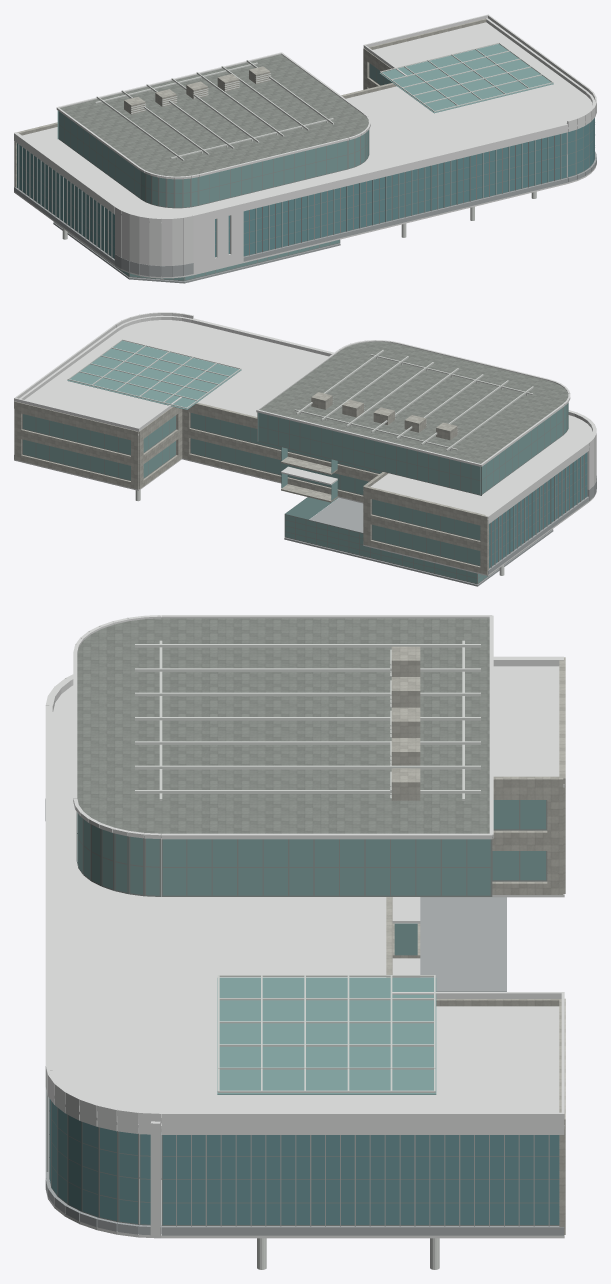
3 renders of one model, top to bottom at view 1: azimuth 30°, elevation 25°; view 2: azimuth 150°, elevation 25°; view 3: azimuth 270°, elevation 25°, orthographic. The views are drawn at different scales.
Visible parts, largest first — view 1: libraryNew__lower-white, libraryNew__roof, libraryNew__glass-water, libraryNew__glass-light, libraryNew__curtain-white, libraryNew__frame, libraryNew__vertical-metal, libraryNew__roof-louvers, libraryNew__base-gray, libraryNew__roof-white, libraryNew__rear-wall, libraryNew__mechanical; view 2: libraryNew__glass-light, libraryNew__roof, libraryNew__lower-white, libraryNew__rear-wall, libraryNew__frame, libraryNew__roof-louvers, libraryNew__roof-white, libraryNew__glass-water, libraryNew__curtain-white, libraryNew__base-gray, libraryNew__vertical-metal, libraryNew__mechanical; view 3: libraryNew__lower-white, libraryNew__roof, libraryNew__glass-light, libraryNew__glass-water, libraryNew__roof-louvers, libraryNew__curtain-white, libraryNew__base-gray, libraryNew__roof-white, libraryNew__rear-wall, libraryNew__frame, libraryNew__mechanical, libraryNew__vertical-metal.
Part boxes in pixels (x1,y1,x2,y2): libraryNew__lower-white: [14, 22, 596, 278]; libraryNew__roof: [60, 54, 368, 178]; libraryNew__glass-water: [17, 118, 594, 258]; libraryNew__glass-light: [57, 44, 553, 280]; libraryNew__curtain-white: [14, 18, 596, 273]; libraryNew__frame: [17, 63, 594, 281]; libraryNew__vertical-metal: [18, 134, 561, 257]; libraryNew__roof-louvers: [95, 42, 553, 161]; libraryNew__base-gray: [14, 132, 596, 283]; libraryNew__roof-white: [56, 14, 596, 179]; libraryNew__rear-wall: [14, 19, 486, 187]; libraryNew__mechanical: [124, 66, 270, 114]; libraryNew__glass-light: [23, 340, 568, 583]; libraryNew__roof: [260, 341, 568, 463]; libraryNew__lower-white: [14, 320, 596, 575]; libraryNew__rear-wall: [14, 401, 488, 574]; libraryNew__frame: [22, 402, 587, 584]; libraryNew__roof-louvers: [67, 339, 533, 450]; libraryNew__roof-white: [14, 312, 570, 485]; libraryNew__glass-water: [489, 452, 587, 567]; libraryNew__curtain-white: [14, 315, 596, 524]; libraryNew__base-gray: [14, 455, 596, 586]; libraryNew__vertical-metal: [490, 454, 584, 567]; libraryNew__mechanical: [311, 392, 457, 440]; libraryNew__lower-white: [45, 666, 564, 1238]; libraryNew__roof: [77, 617, 492, 837]; libraryNew__glass-light: [77, 800, 545, 1094]; libraryNew__glass-water: [49, 1099, 559, 1224]; libraryNew__roof-louvers: [135, 640, 480, 1092]; libraryNew__curtain-white: [45, 656, 564, 1237]; libraryNew__base-gray: [45, 798, 564, 1235]; libraryNew__roof-white: [45, 615, 564, 1119]; libraryNew__rear-wall: [386, 657, 565, 1234]; libraryNew__frame: [49, 800, 559, 1225]; libraryNew__mechanical: [391, 646, 420, 800]; libraryNew__vertical-metal: [46, 1092, 549, 1226].
Bounding box in the file's own units: 76.38 × 19.55 × 36.11.
Materials: 10 (3 with a texture image).
